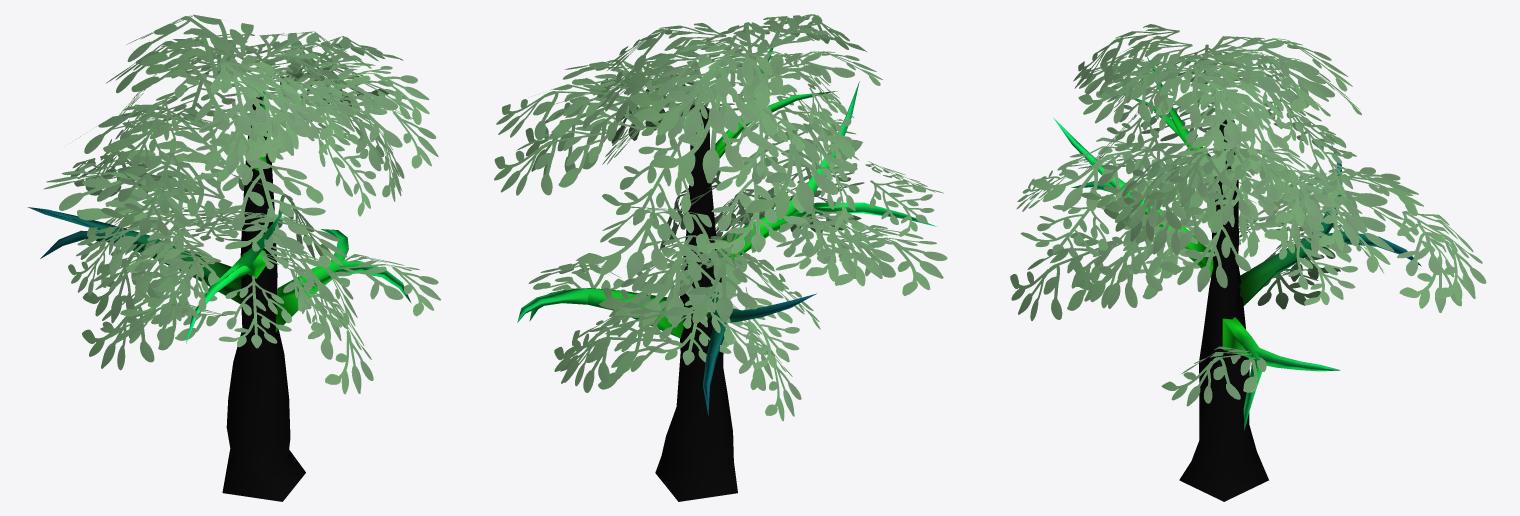
Rendered from apple_treelod1.fbx.
The picture shows the model from 3 angles, left to right: view 1: azimuth 30°, elevation 25°; view 2: azimuth 150°, elevation 25°; view 3: azimuth 270°, elevation 25°; orthographic projection. The views are drawn at different scales.
Visible parts, largest first — view 1: polySurface521; view 2: polySurface521; view 3: polySurface521.
Part boxes in pixels (x1=…): polySurface521: x1=27, y1=14, x2=440, y2=501; polySurface521: x1=494, y1=14, x2=947, y2=501; polySurface521: x1=1010, y1=24, x2=1486, y2=501.
Size of the model in its own units: 2.82 by 3.14 by 3.37.
